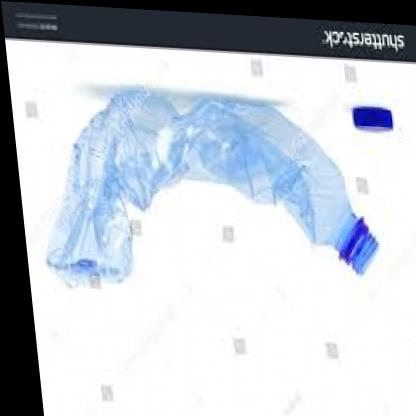Plastic: (16, 78, 384, 317)
